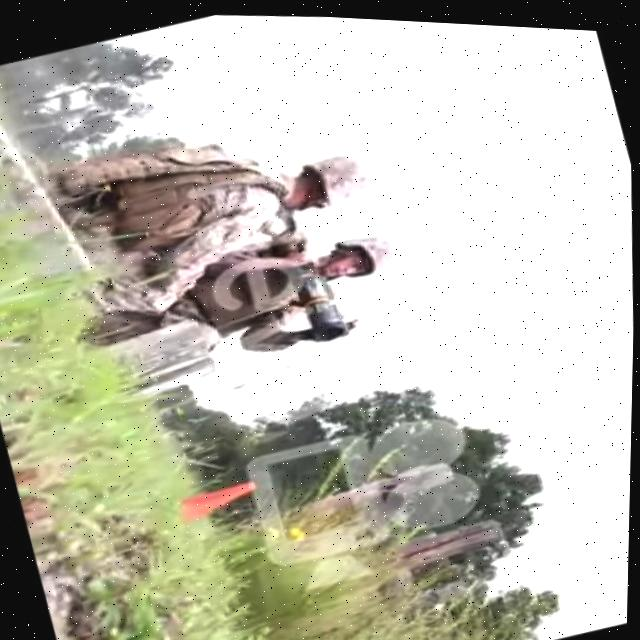rocket: (285, 242, 360, 343)
